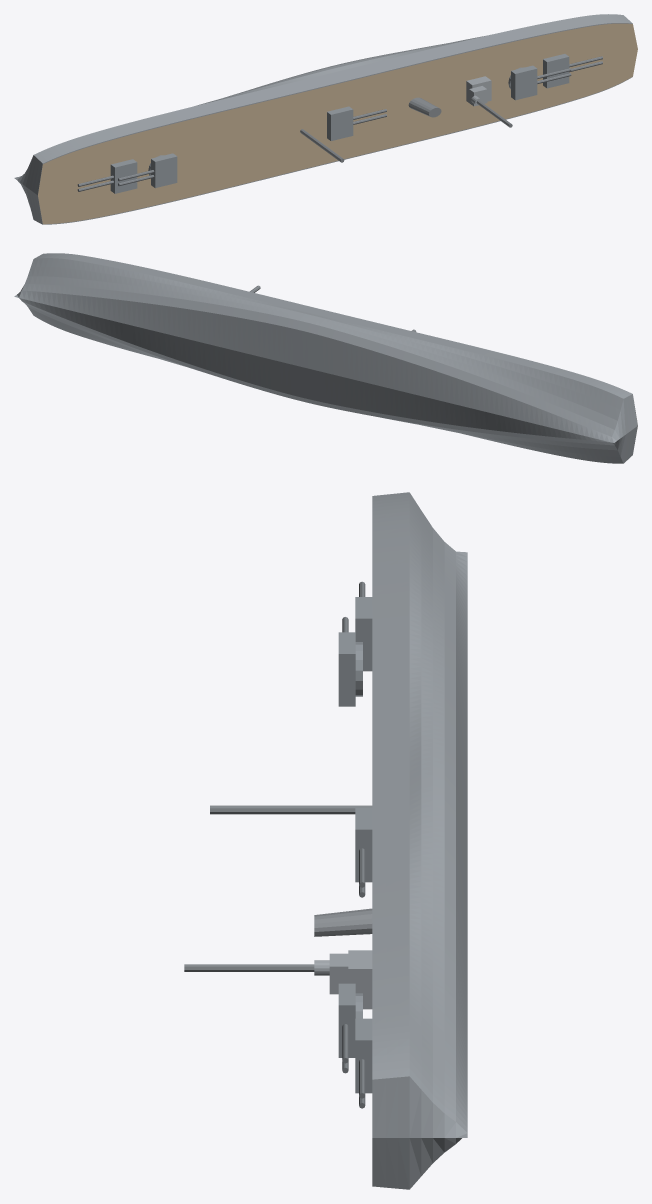
3 views of the same model, one above another, from view 1: azimuth 30°, elevation 25°; view 2: azimuth 150°, elevation 25°; view 3: azimuth 270°, elevation 25° (orthographic). The views are drawn at different scales.
Parts seen in each view (by area): view 1: A126; view 2: A126; view 3: A126.
Part boxes in pixels (bbox=[...]): A126: bbox=[14, 14, 637, 224]; A126: bbox=[14, 253, 637, 463]; A126: bbox=[184, 492, 467, 1189].
Size of the model in its own units: 227 by 30.93 by 46.46.
